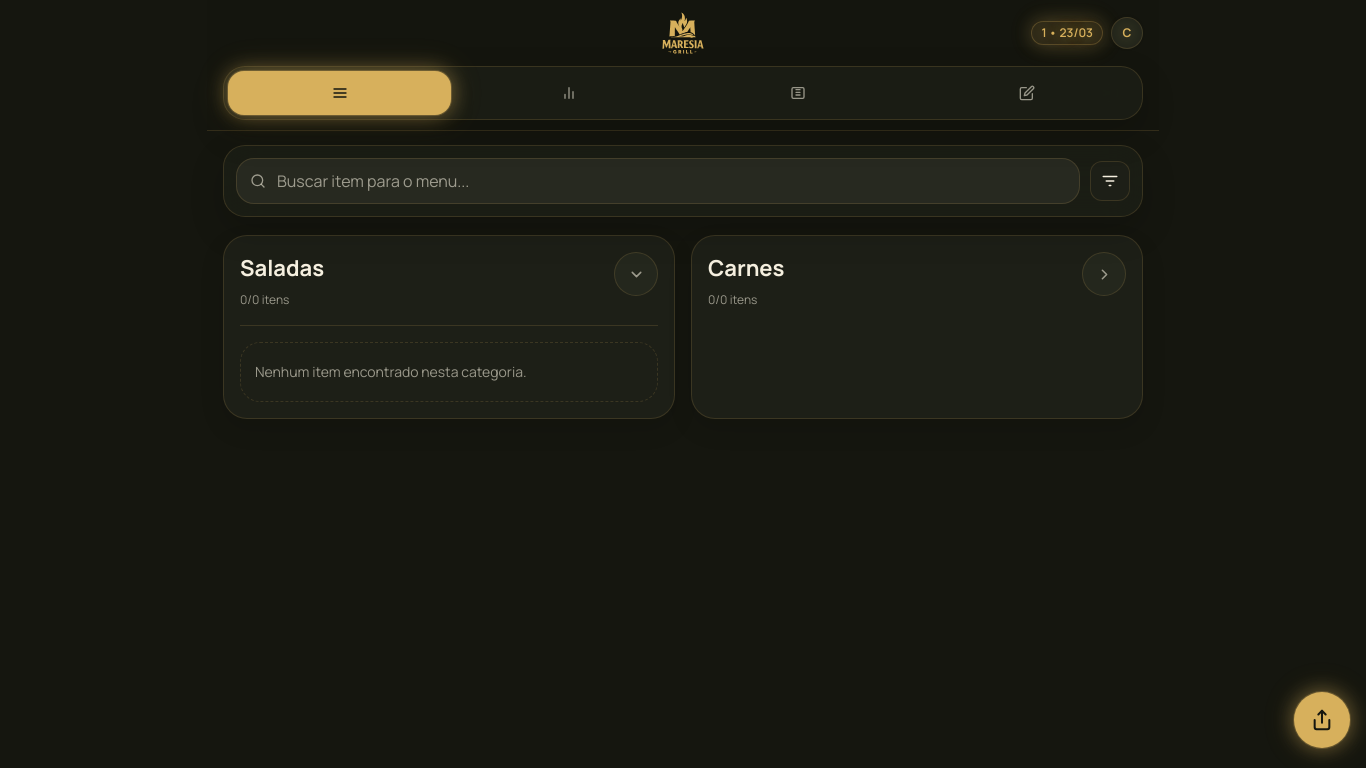
App › quick-adds a searched item from the empty manage state and clears the search
The image size is (1366, 768).
Click the tab named "Catálogo" at (1026, 93), box [915,71,1138,115]
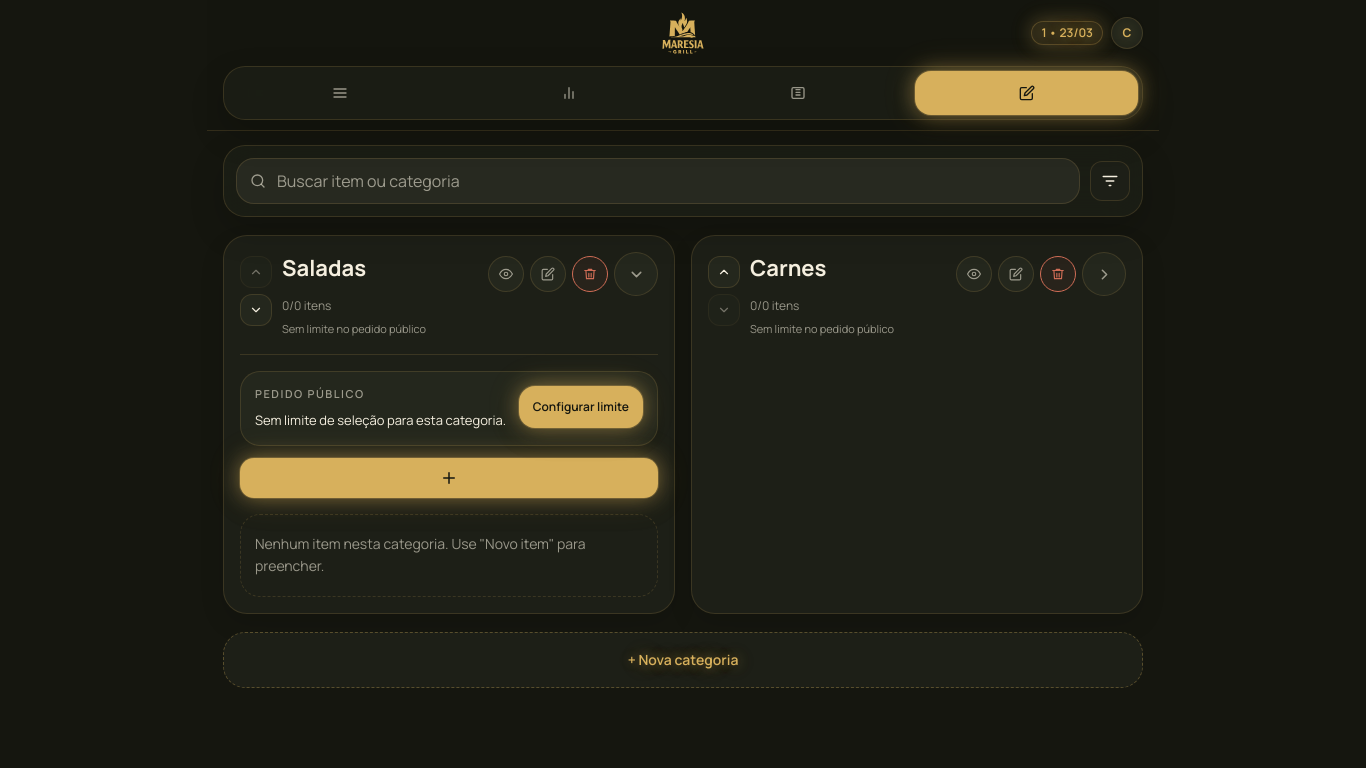
Type "Abacaxi" into the search field with placeholder "Buscar item ou categoria" at (658, 181), box [236,158,1080,204]
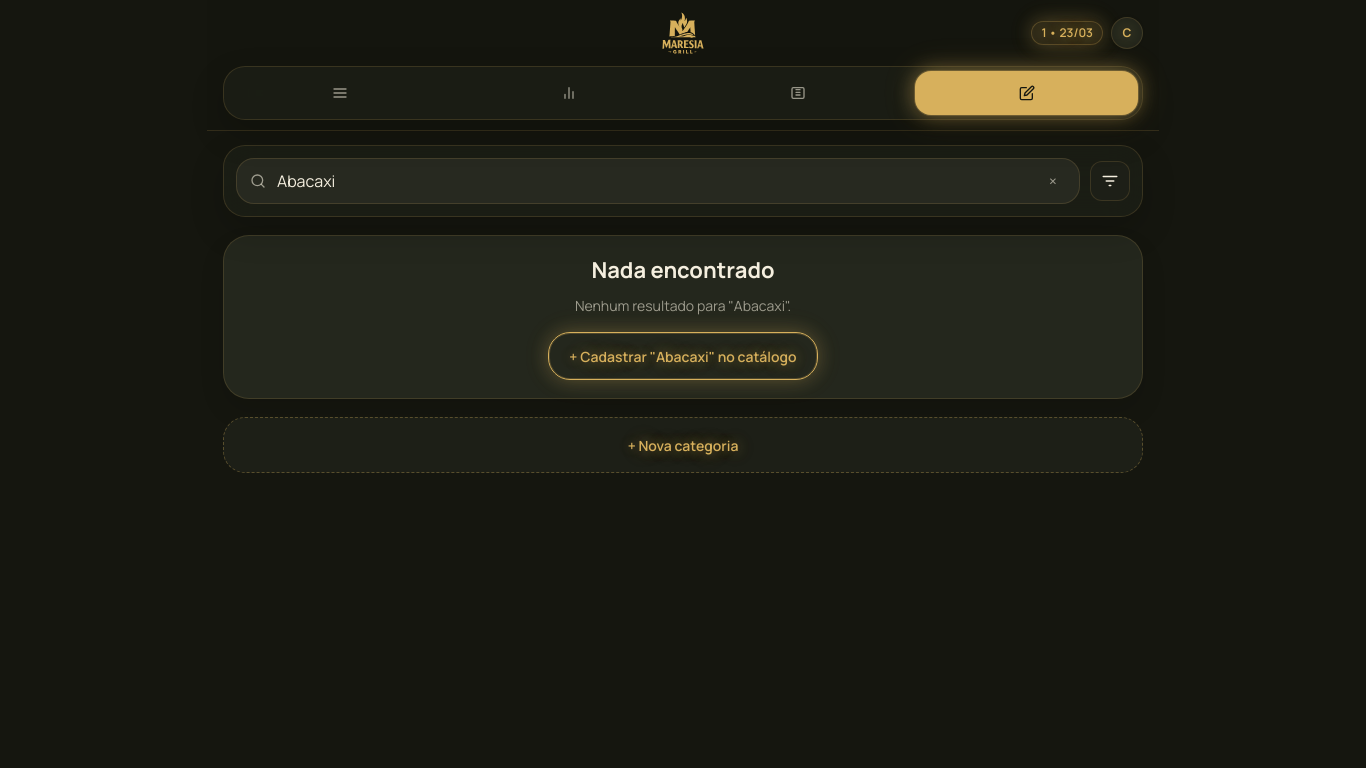
Click the button "+ Cadastrar \"Abacaxi\" no catálogo" at (683, 356), box [548,332,818,380]
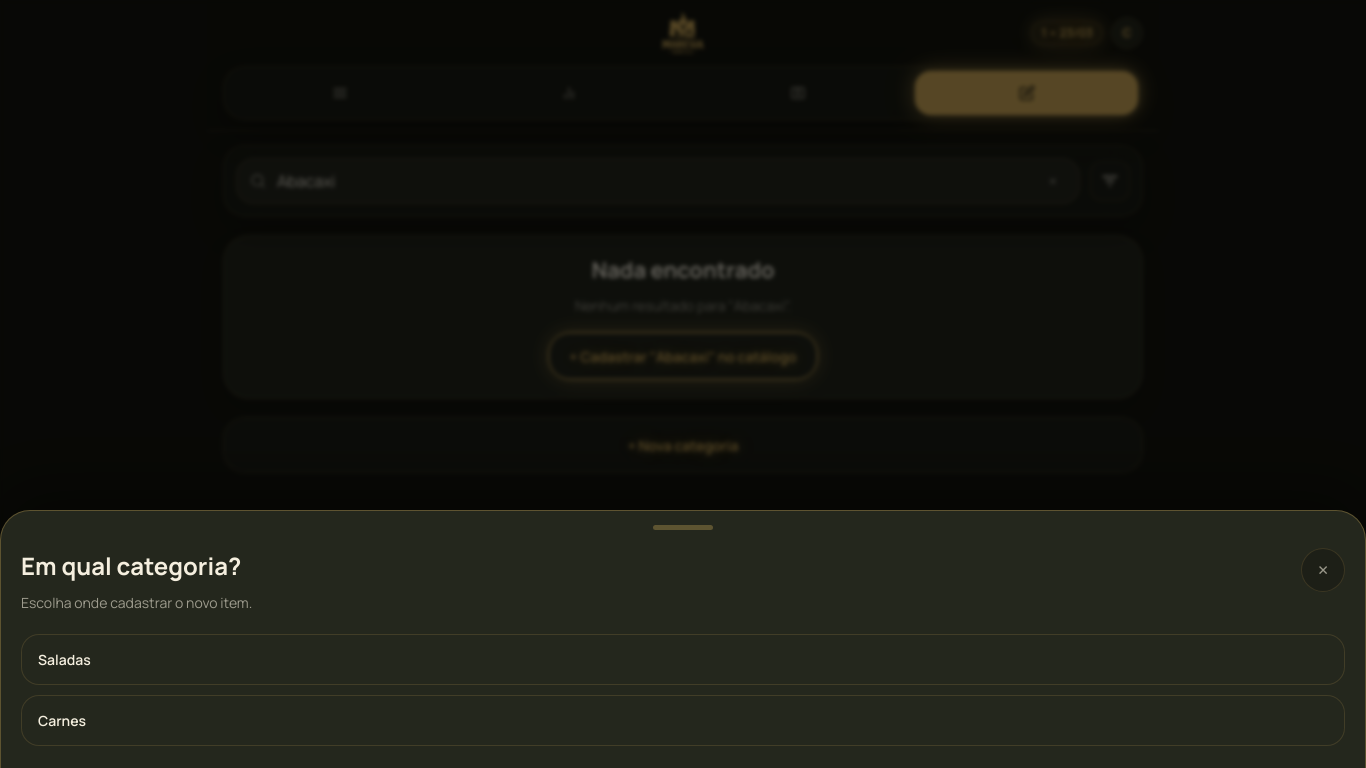
Click the button "Saladas" at (64, 660), box [21,634,1345,685]
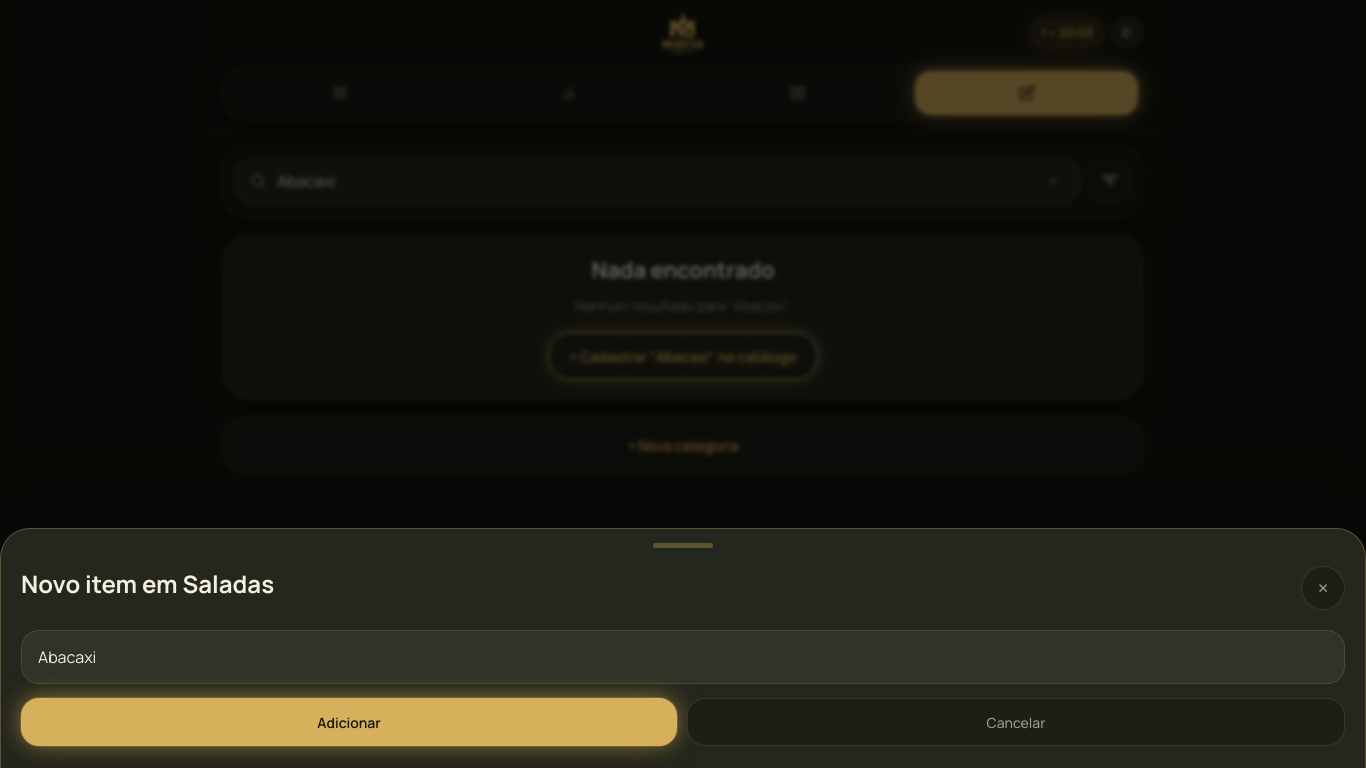
Expected: the field with placeholder "Nome do item..." holds "Abacaxi", [21,630,1345,684]
Click the button "Adicionar" at (349, 722), box [21,698,677,746]
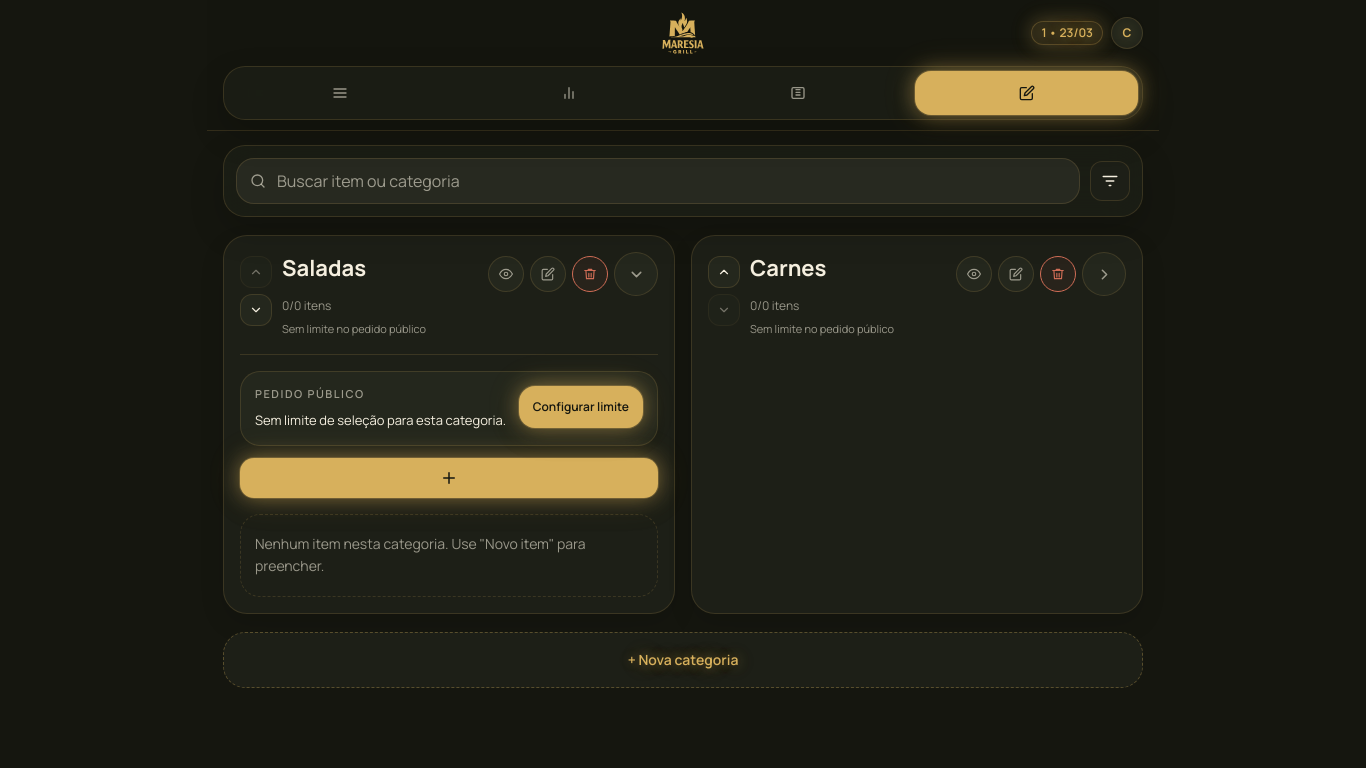
Expected: the text showing "Abacaxi" is gone
